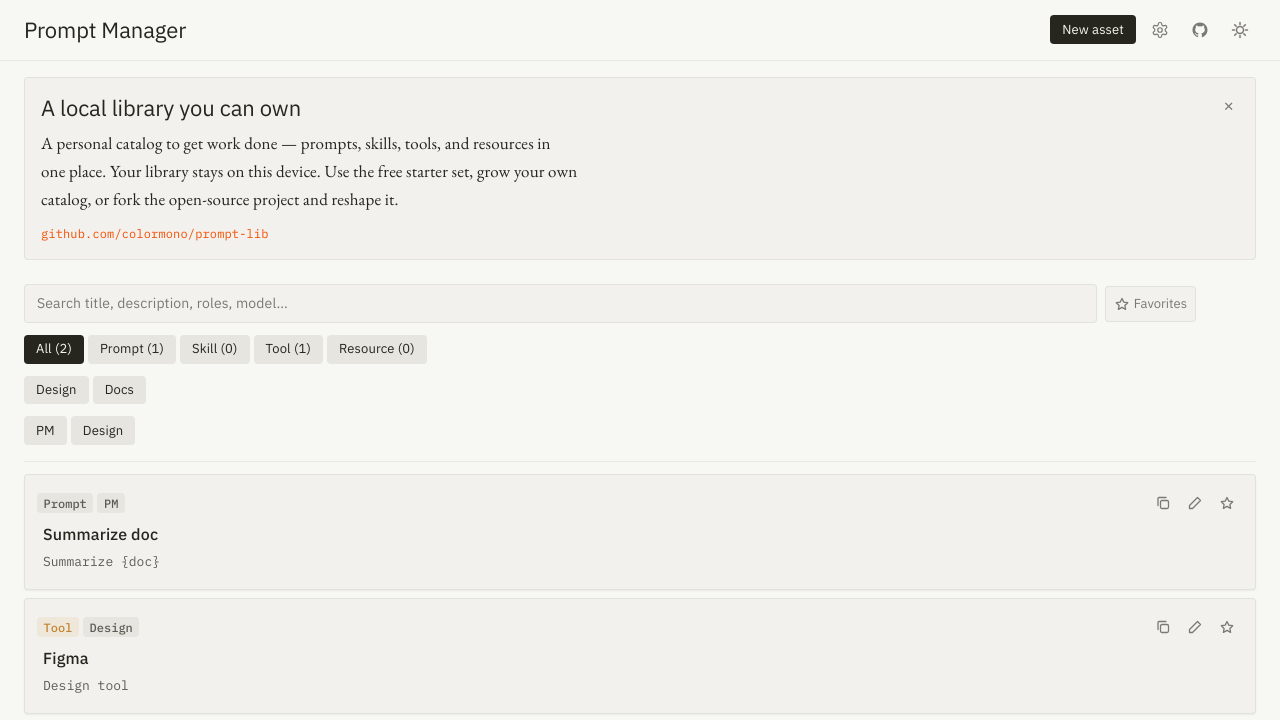
Scenario: App › narrows the list to favorites only
Click the 2nd button named "Add to favorites" at (1227, 627), box top-left (1211, 611), bottom-right (1243, 643)
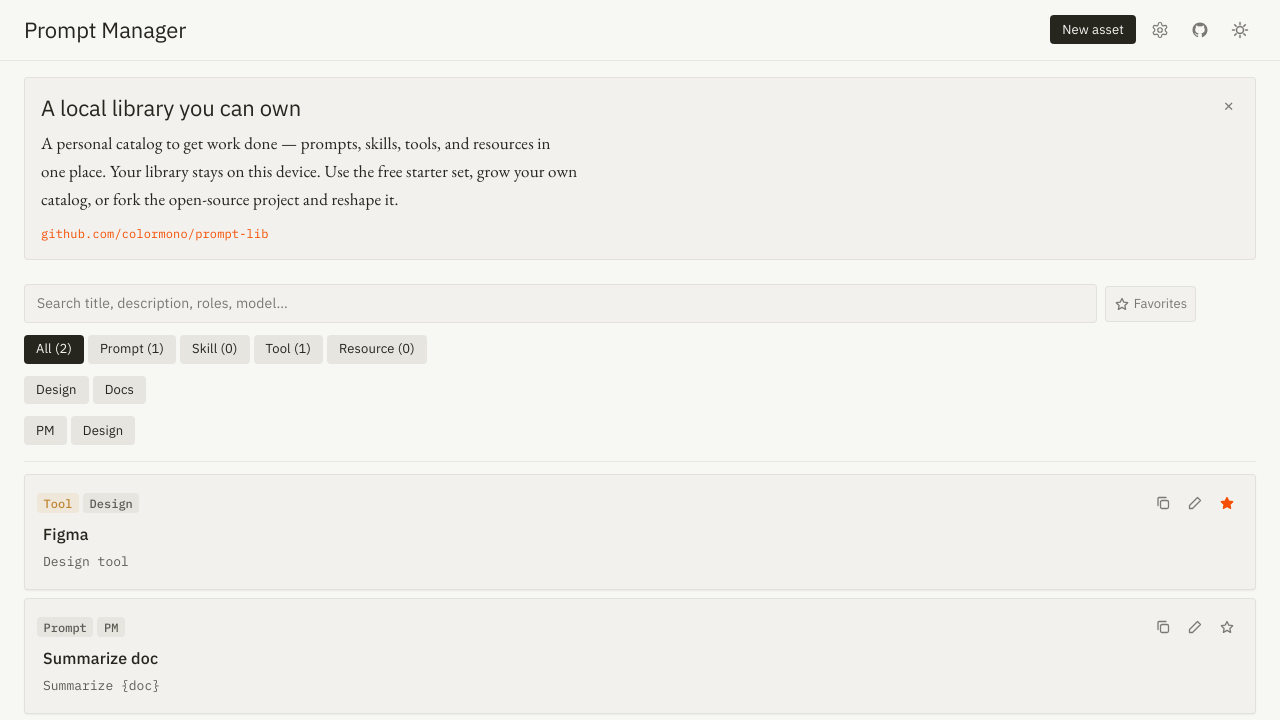
Click the button with aria-label "Favorites only" at (1150, 304), box top-left (1105, 286), bottom-right (1196, 322)
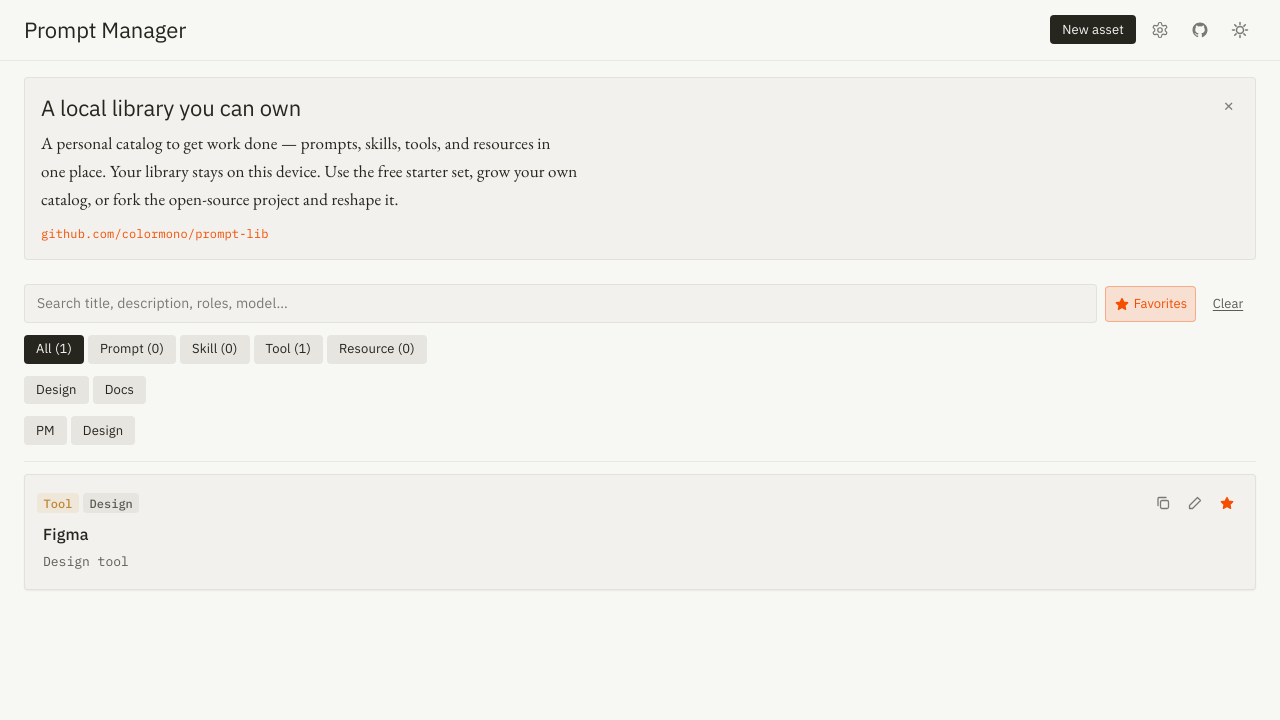
Expected: the heading "Figma" is shown, top-left (43, 524), bottom-right (89, 544)
Now the button "Summarize doc" is gone
